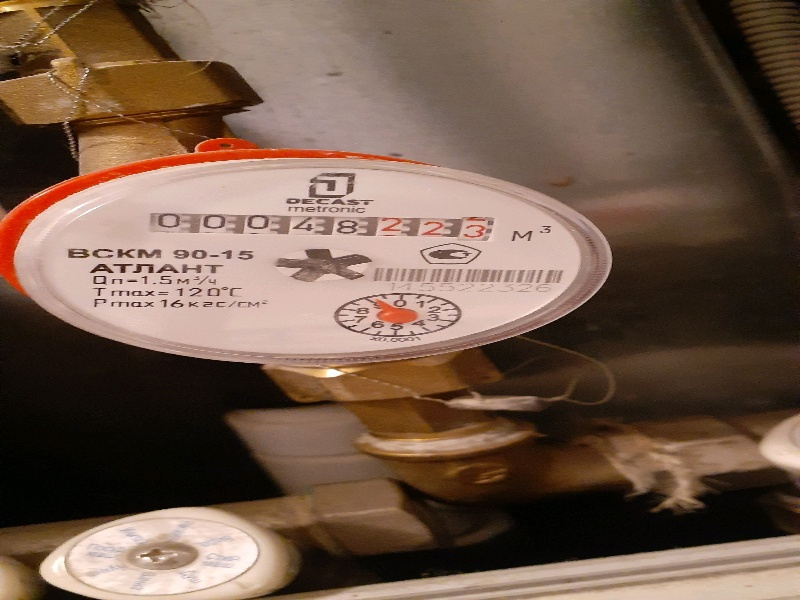meter: (144, 206, 501, 246)
